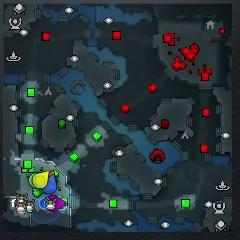Other: (39, 197, 48, 210)
p1: (43, 173, 58, 195)
p2: (28, 172, 37, 189)
p3: (48, 195, 65, 211)
p4: (33, 170, 49, 188)
p5: (49, 170, 55, 176)
